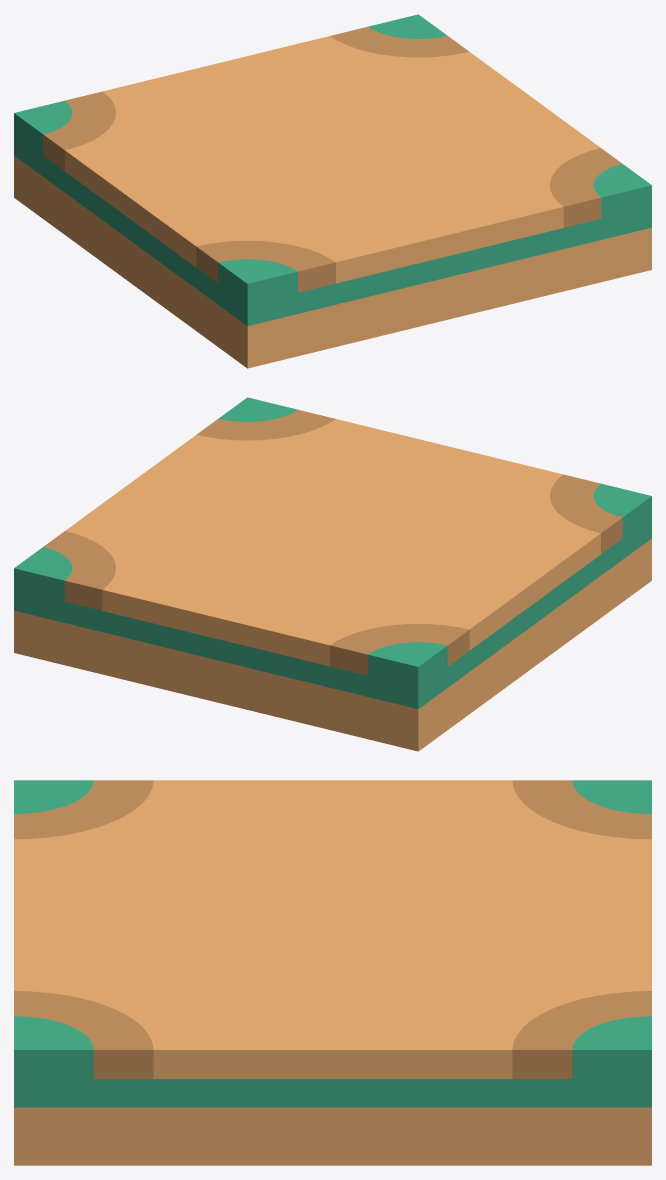
File: tile_crossing(+).fbx
3 renders of one model, top to bottom at view 1: azimuth 30°, elevation 25°; view 2: azimuth 150°, elevation 25°; view 3: azimuth 270°, elevation 25°, orthographic. The views are drawn at different scales.
Parts seen in each view (by area): view 1: Mesh_2; view 2: Mesh_2; view 3: Mesh_2.
Boxes of the visible parts, x1,y1,x2,y2 form: Mesh_2: [14, 14, 651, 368]; Mesh_2: [14, 397, 651, 751]; Mesh_2: [14, 780, 651, 1165].
Size of the model in its own units: 100 by 20 by 100.
